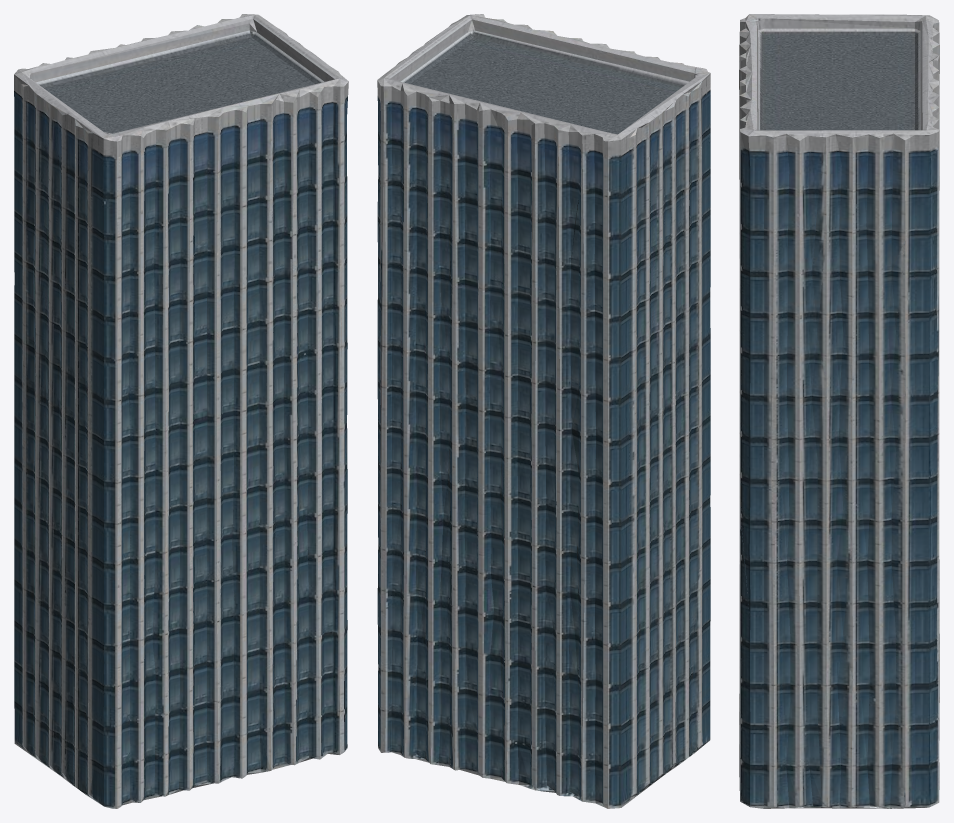
File: tower-mid.glb
The picture shows the model from 3 angles, left to right: view 1: azimuth 30°, elevation 25°; view 2: azimuth 150°, elevation 25°; view 3: azimuth 270°, elevation 25°; orthographic projection.
Parts seen in each view (by area): view 1: Mesh_0.001; view 2: Mesh_0.001; view 3: Mesh_0.001.
Boxes of the visible parts, box(x1,y1,x2,y2) form: Mesh_0.001: box(14, 14, 348, 808); Mesh_0.001: box(377, 14, 710, 808); Mesh_0.001: box(739, 14, 939, 808).
Size of the model in its own units: 1 by 2.57 by 0.691.
1 material, 1 textured.
